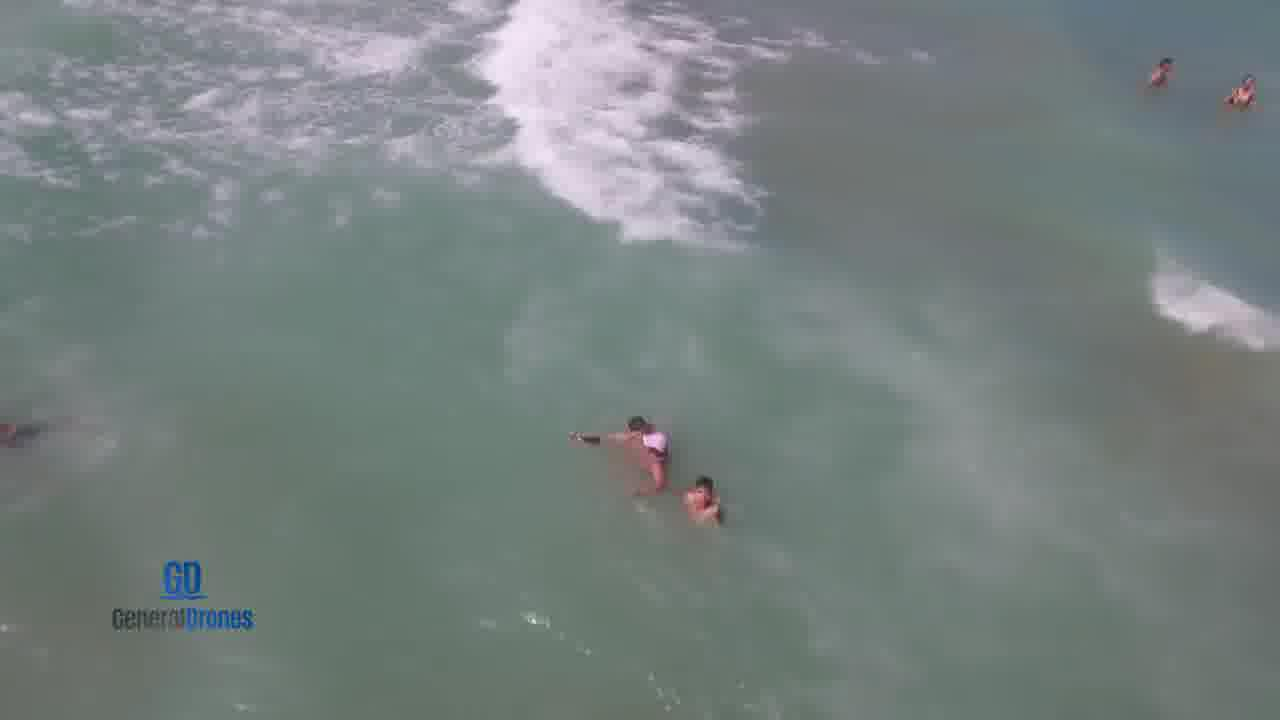human: (559, 397, 675, 502), (674, 457, 739, 536), (1217, 63, 1269, 117), (619, 394, 675, 441)
